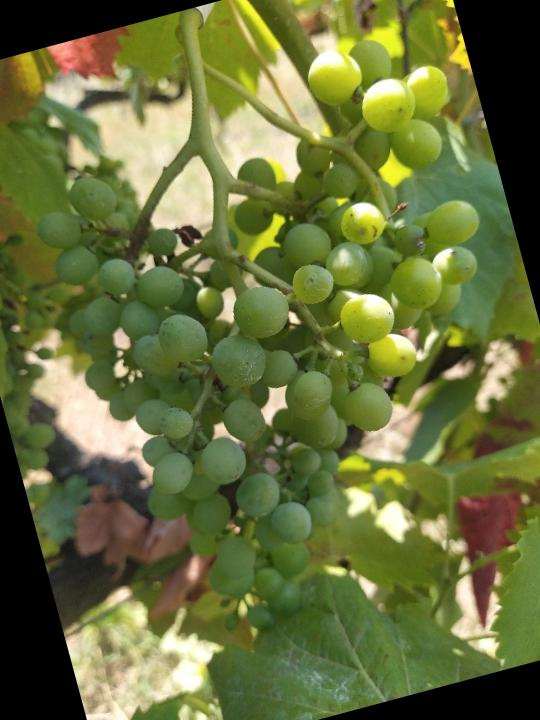grape: (10, 20, 540, 665)
